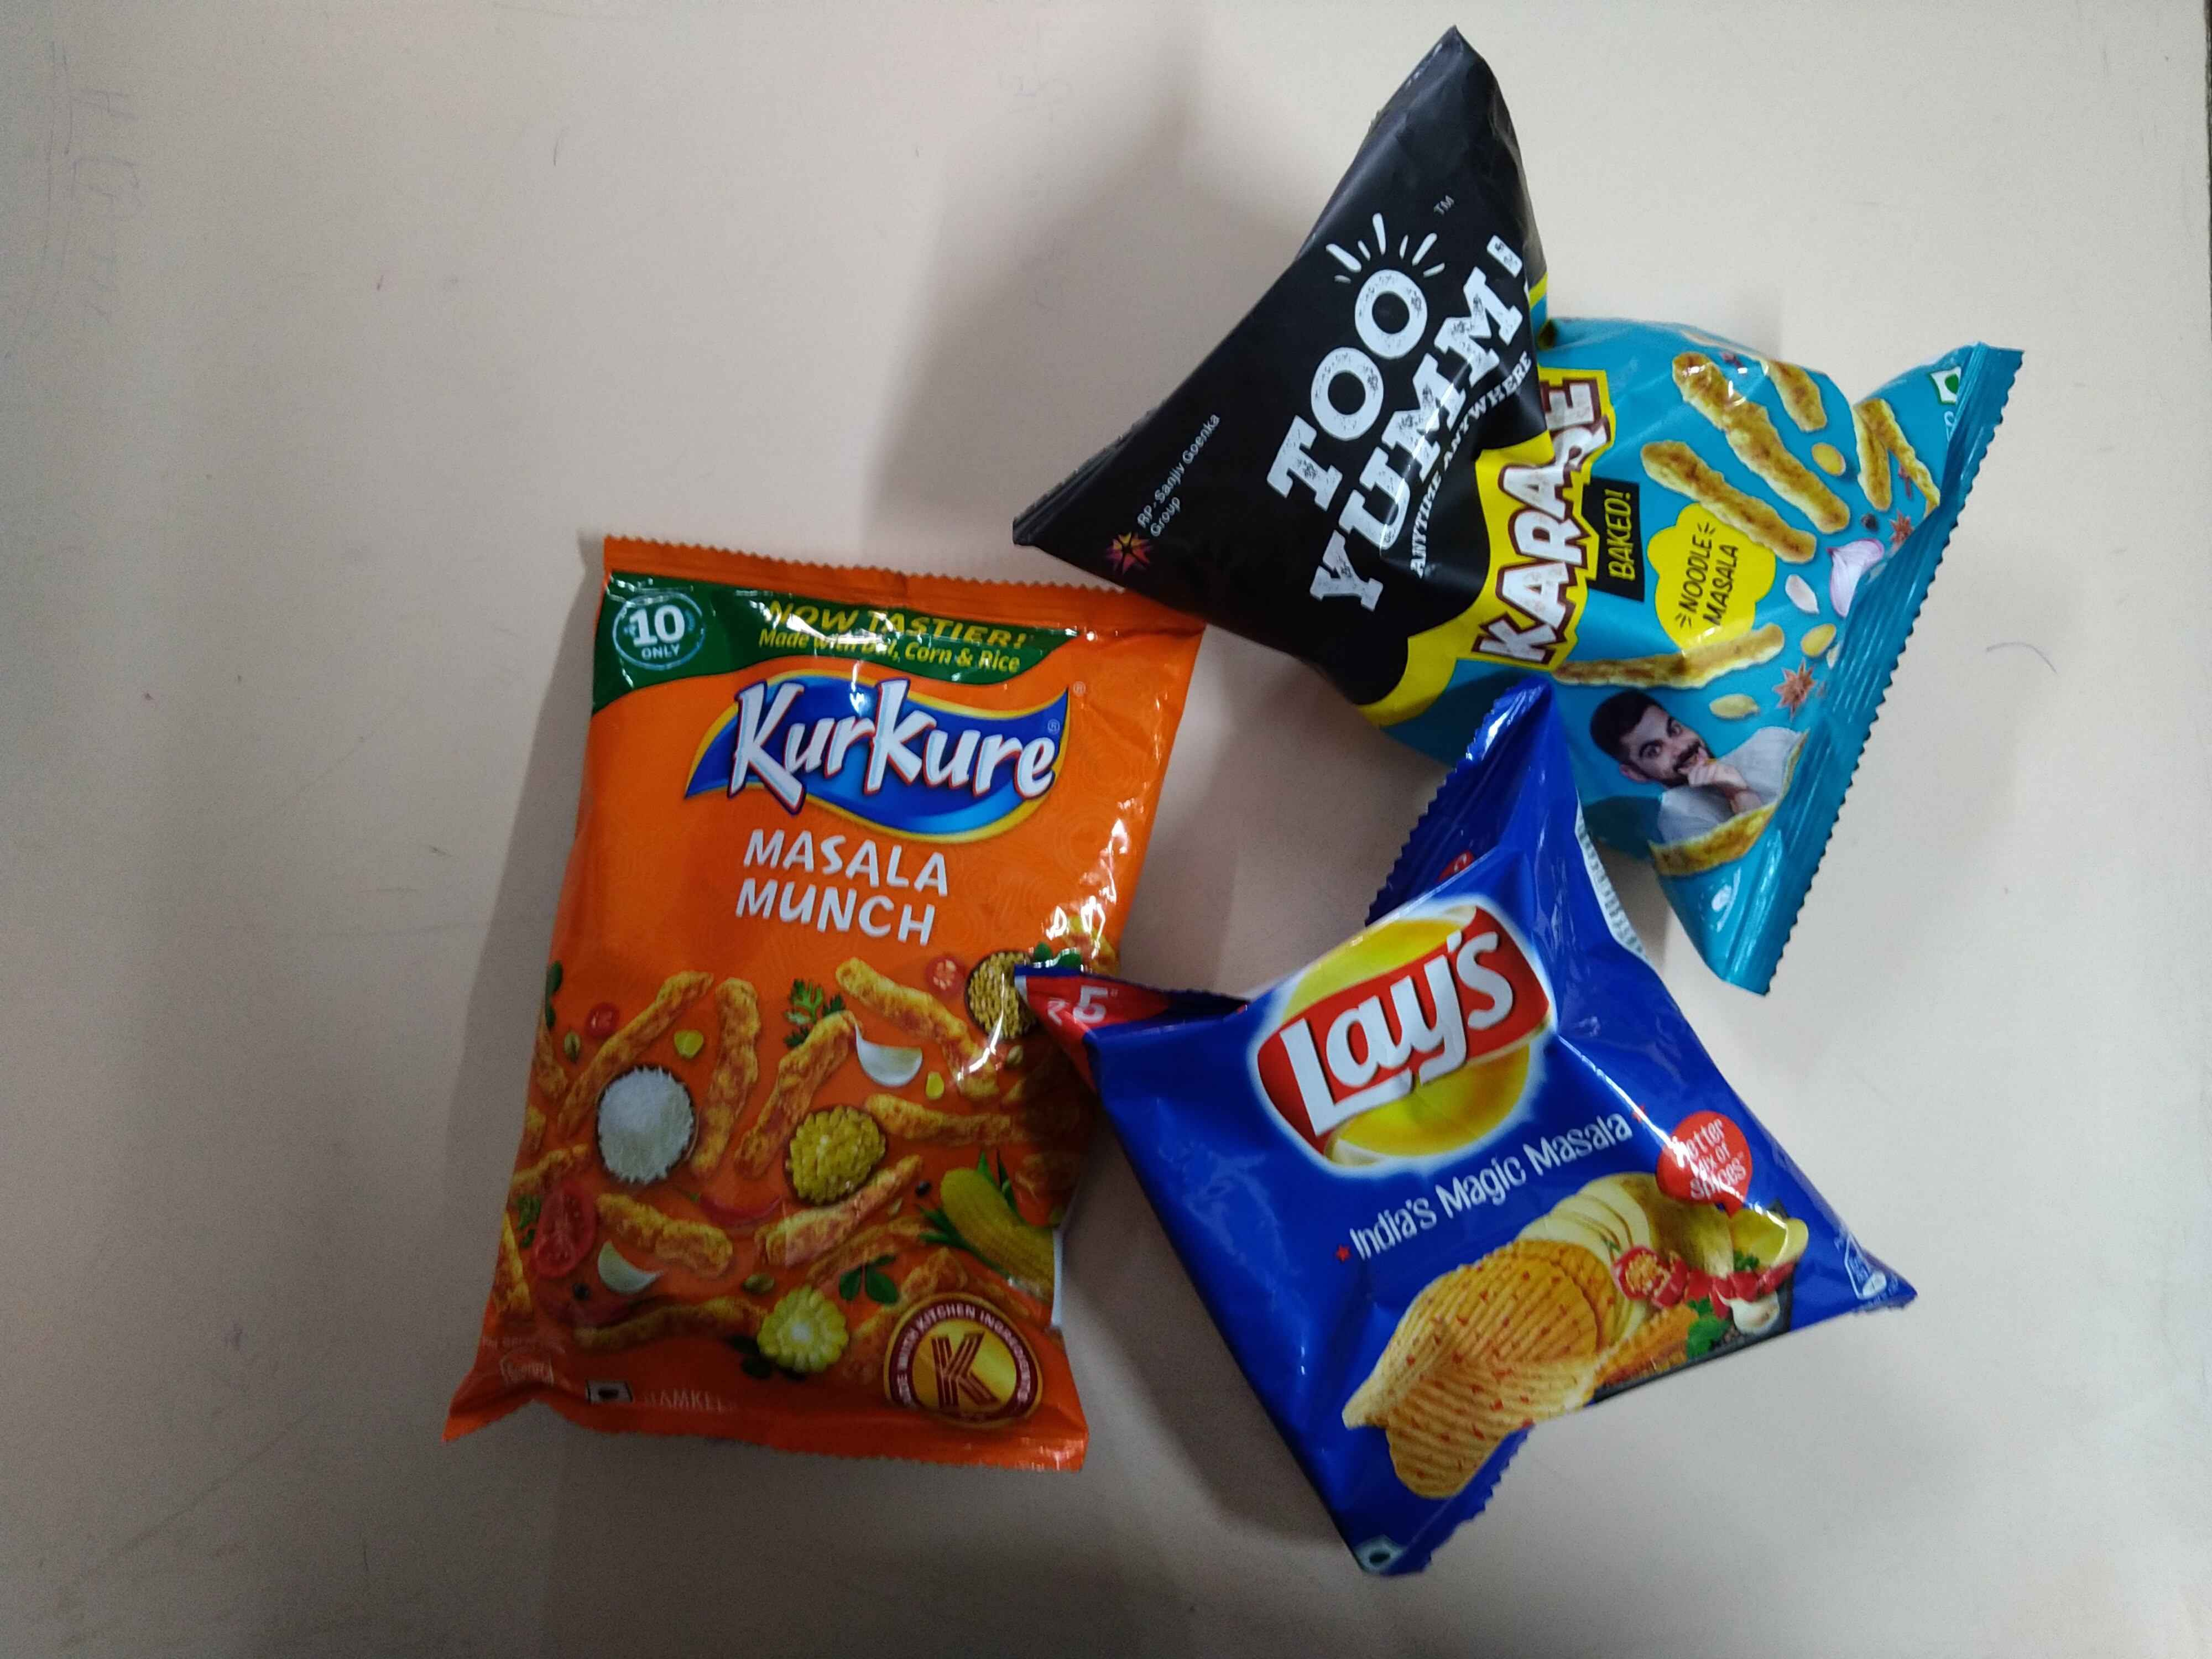Lays: (1238, 882, 1561, 1218)
kurkure: (660, 667, 1129, 812)
tooyumm: (1266, 199, 1519, 619)
